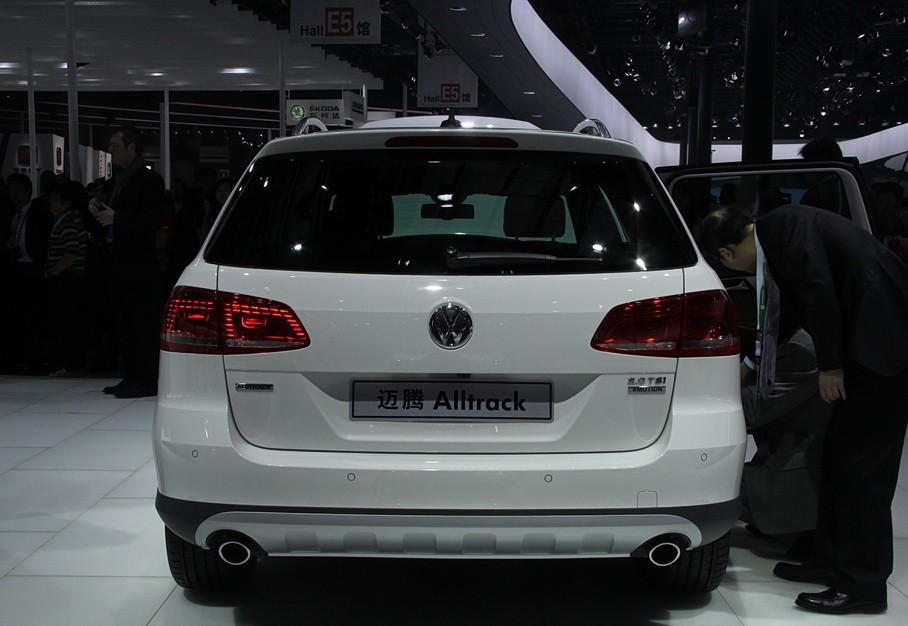Wagon: (151, 105, 887, 599)
